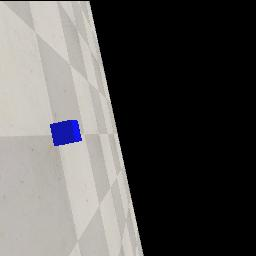box: (50, 120, 82, 146)
